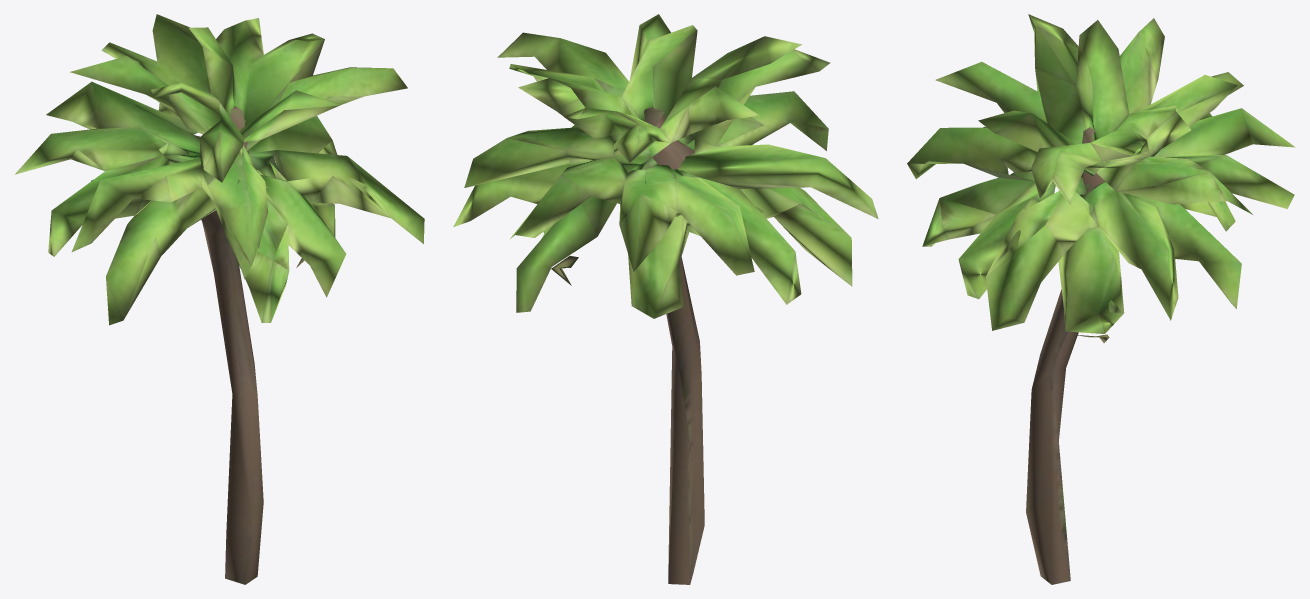
Rendered from palm_b_far.glb.
3 renders of one model, left to right at view 1: azimuth 30°, elevation 25°; view 2: azimuth 150°, elevation 25°; view 3: azimuth 270°, elevation 25°, orthographic. The views are drawn at different scales.
Parts seen in each view (by area): view 1: body; view 2: body; view 3: body.
Part boxes in pixels (left/top/right/bottom): body: left=15, top=14, right=424, bottom=584; body: left=453, top=14, right=878, bottom=584; body: left=907, top=14, right=1295, bottom=584.
Bounding box in the file's own units: 4.3 × 6.51 × 4.22.
Materials: 2 (2 with a texture image).
